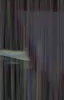Give way: (4, 4, 59, 80)
